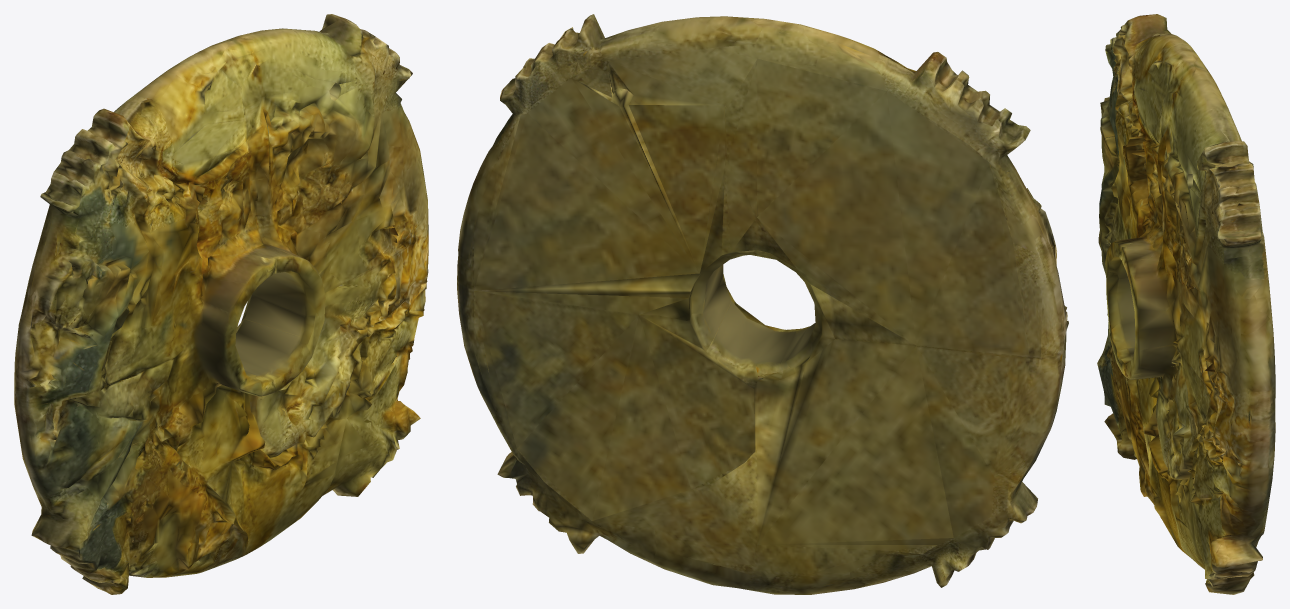
The model's file is 07-jade-bi.glb.
The picture shows the model from 3 angles, left to right: view 1: azimuth 30°, elevation 25°; view 2: azimuth 150°, elevation 25°; view 3: azimuth 270°, elevation 25°; orthographic projection. The views are drawn at different scales.
Visible parts, largest first — view 1: Meshy_AI_Ancient_Jade_Sun_Disc_0817193606_texture; view 2: Meshy_AI_Ancient_Jade_Sun_Disc_0817193606_texture; view 3: Meshy_AI_Ancient_Jade_Sun_Disc_0817193606_texture.
Boxes of the visible parts, x1=… form: Meshy_AI_Ancient_Jade_Sun_Disc_0817193606_texture: x1=14, y1=14, x2=428, y2=594; Meshy_AI_Ancient_Jade_Sun_Disc_0817193606_texture: x1=457, y1=14, x2=1068, y2=594; Meshy_AI_Ancient_Jade_Sun_Disc_0817193606_texture: x1=1097, y1=14, x2=1275, y2=594.
Bounding box in the file's own units: 0.5232 × 0.5417 × 0.1794.
Materials: 1 (1 with a texture image).
